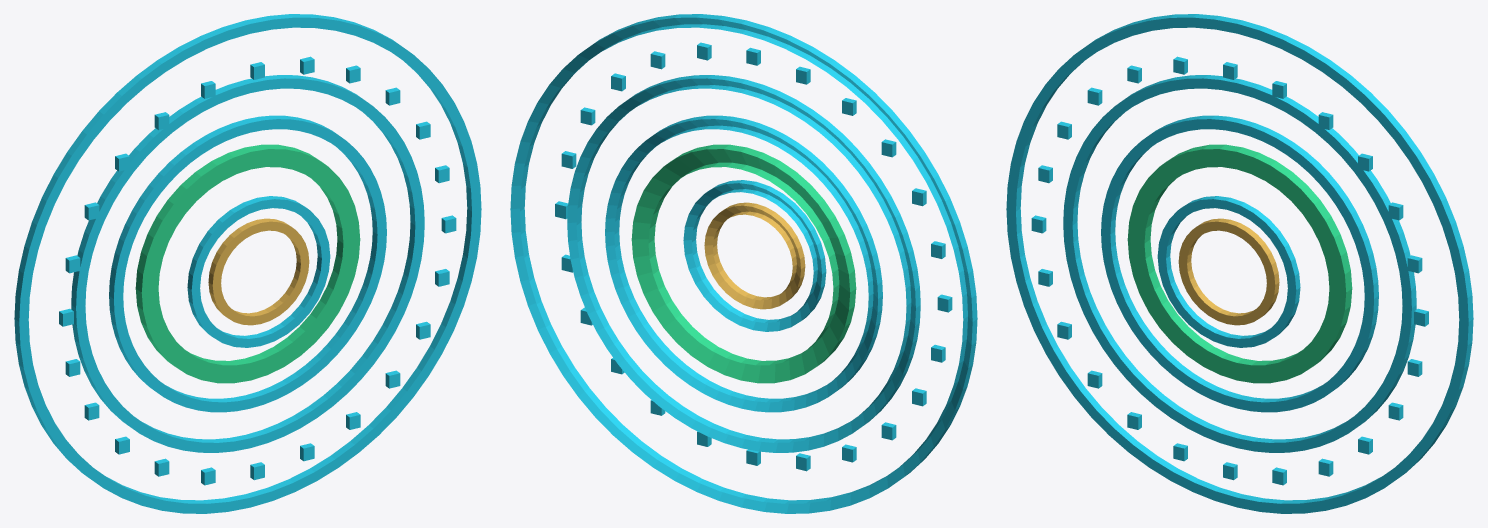
File: 63_L81_TripleLaneVotingHologram.fbx
The picture shows the model from 3 angles, left to right: view 1: azimuth 30°, elevation 25°; view 2: azimuth 150°, elevation 25°; view 3: azimuth 330°, elevation 25°; orthographic projection.
Parts seen in each view (by area): view 1: TripleLaneVotingHologram, TripleLaneVotingHologram_Part_0027, TripleLaneVotingHologram_Part_0028, TripleLaneVotingHologram_Part_0029; view 2: TripleLaneVotingHologram, TripleLaneVotingHologram_Part_0027, TripleLaneVotingHologram_Part_0028, TripleLaneVotingHologram_Part_0029; view 3: TripleLaneVotingHologram, TripleLaneVotingHologram_Part_0027, TripleLaneVotingHologram_Part_0028, TripleLaneVotingHologram_Part_0029.
Part boxes in pixels (left/top/right/bottom): TripleLaneVotingHologram: left=14, top=14, right=481, bottom=513; TripleLaneVotingHologram_Part_0027: left=135, top=144, right=360, bottom=383; TripleLaneVotingHologram_Part_0028: left=187, top=196, right=330, bottom=347; TripleLaneVotingHologram_Part_0029: left=208, top=218, right=309, bottom=325; TripleLaneVotingHologram: left=510, top=14, right=977, bottom=513; TripleLaneVotingHologram_Part_0027: left=631, top=144, right=856, bottom=383; TripleLaneVotingHologram_Part_0028: left=683, top=180, right=826, bottom=331; TripleLaneVotingHologram_Part_0029: left=704, top=202, right=805, bottom=309; TripleLaneVotingHologram: left=1006, top=14, right=1473, bottom=513; TripleLaneVotingHologram_Part_0027: left=1127, top=144, right=1352, bottom=383; TripleLaneVotingHologram_Part_0028: left=1157, top=196, right=1300, bottom=347; TripleLaneVotingHologram_Part_0029: left=1178, top=218, right=1279, bottom=325.
Bounding box in the file's own units: 220 × 220 × 13.25.
